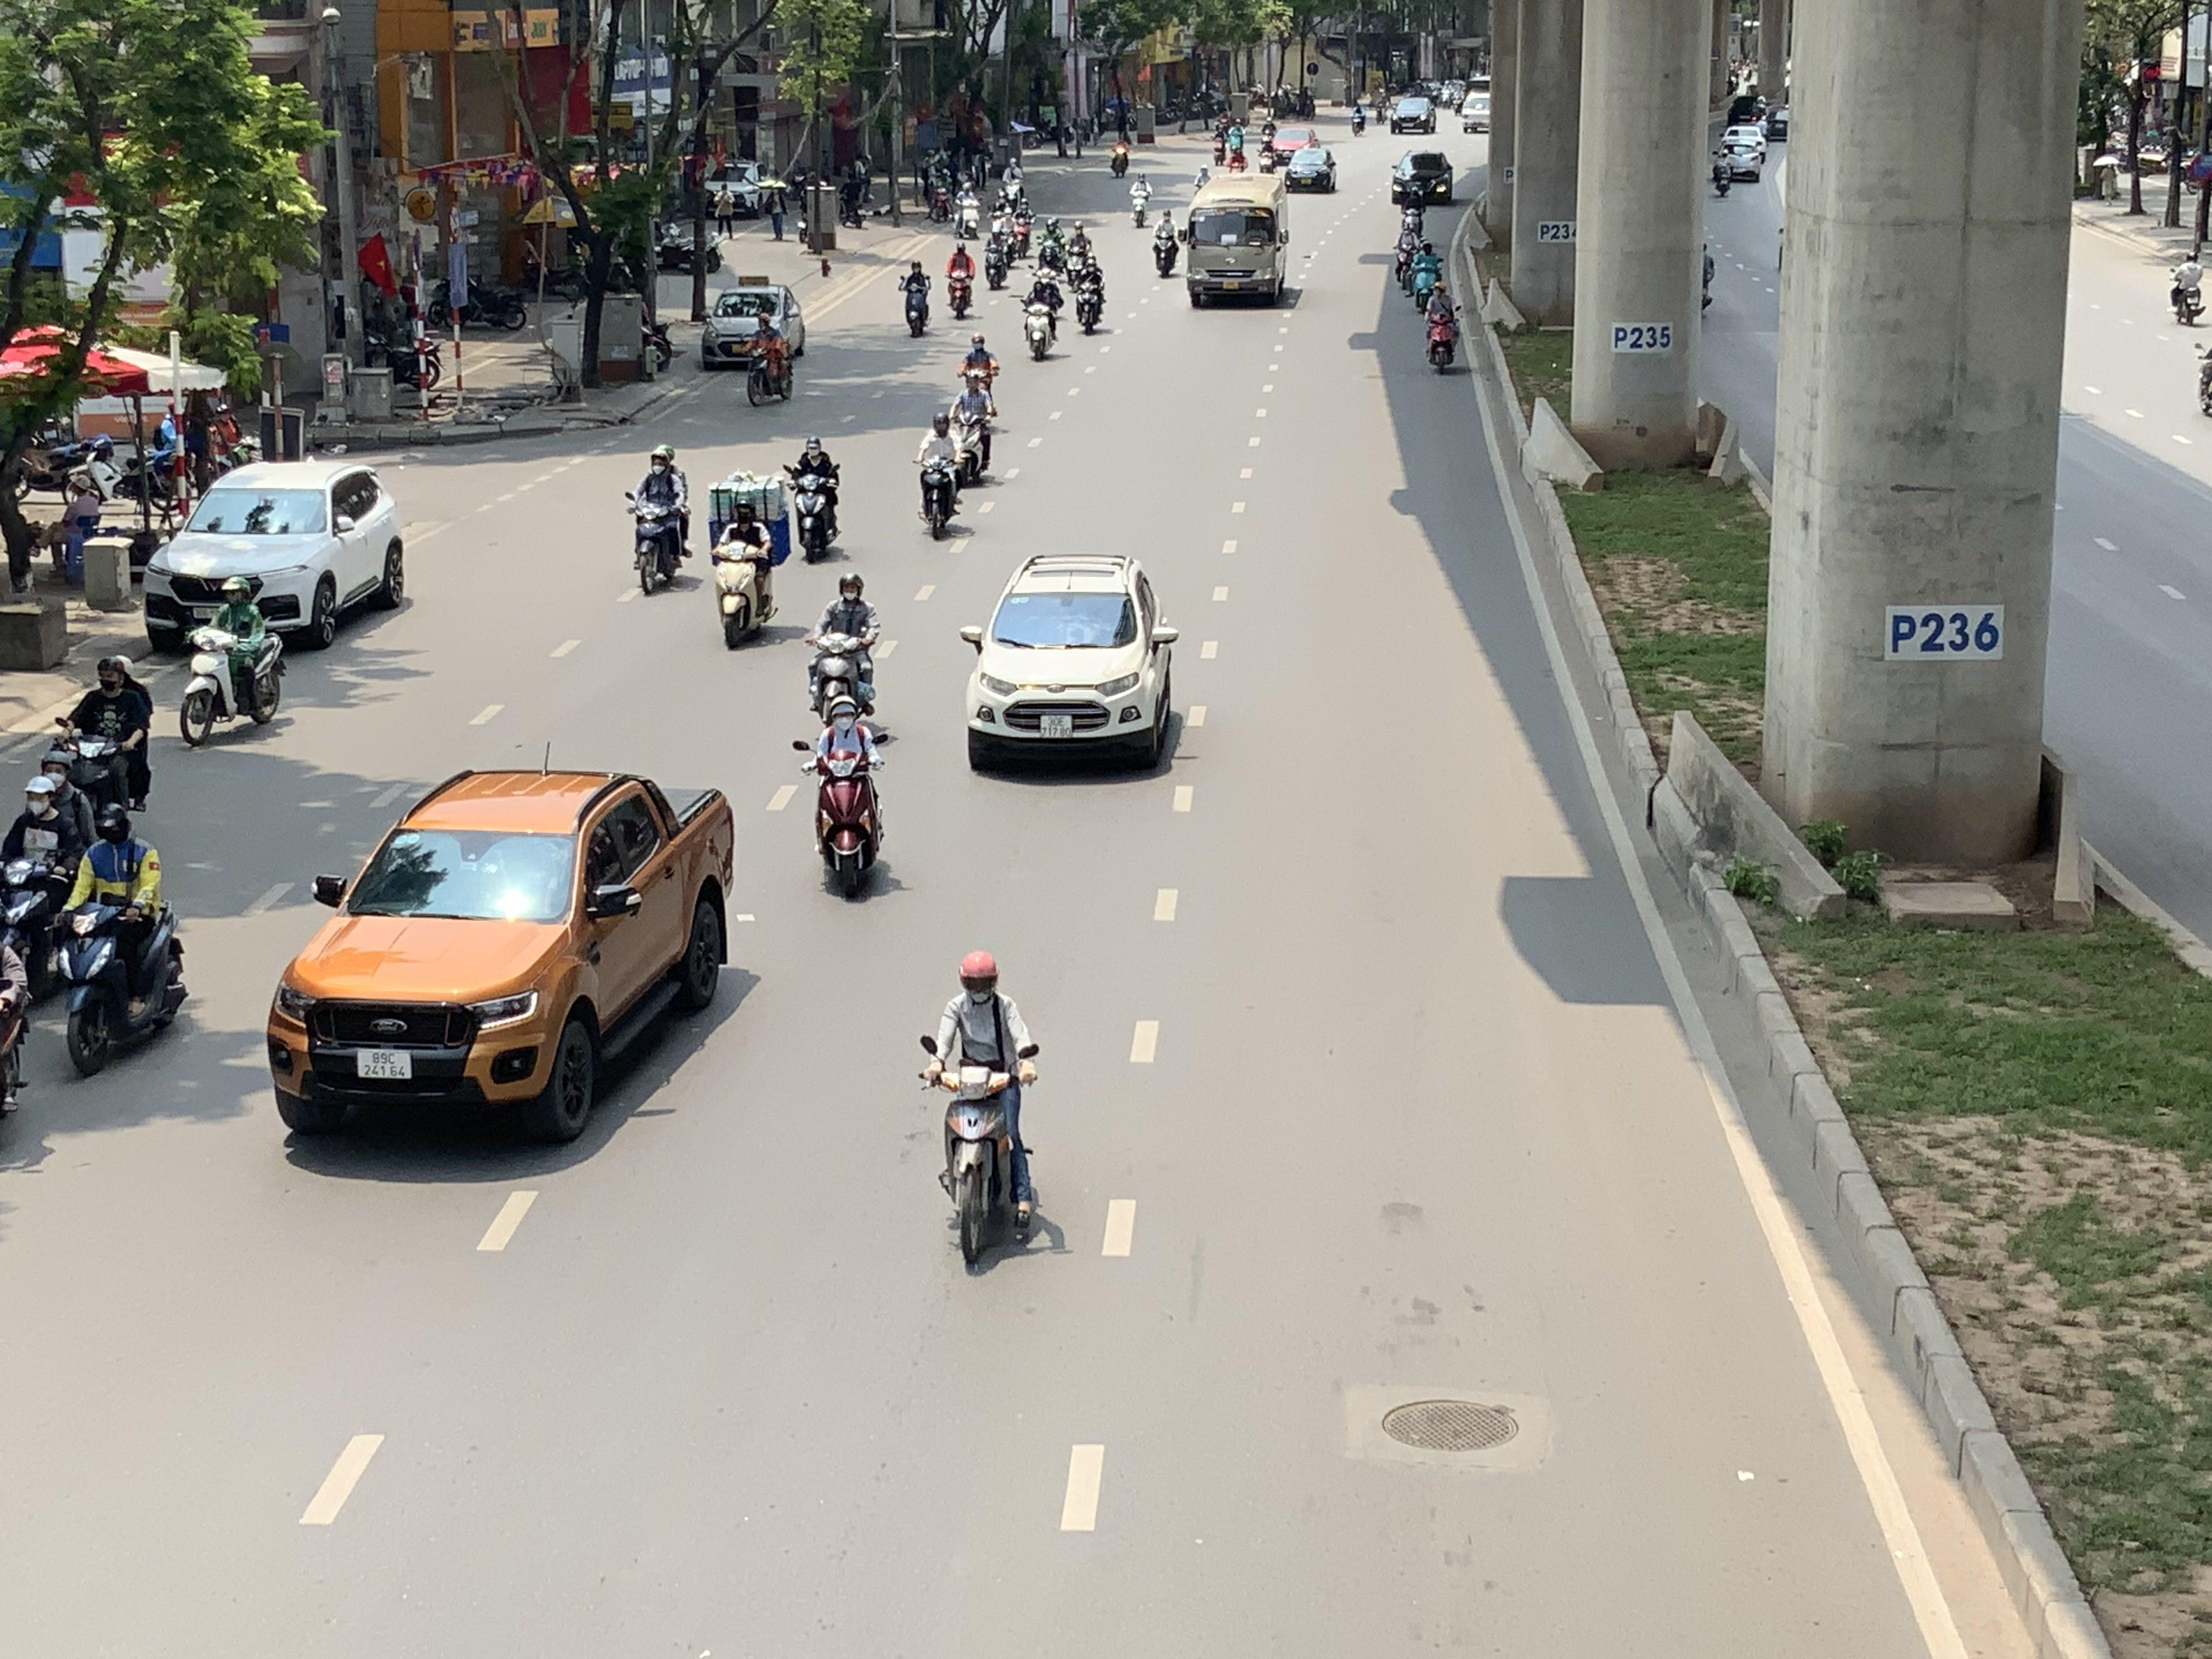BSV: (355, 1049, 413, 1079), (1040, 714, 1073, 739)
bus: (1184, 171, 1292, 308)
car: (265, 767, 737, 1143), (139, 458, 409, 653), (960, 551, 1184, 775), (700, 282, 806, 368), (1390, 148, 1456, 206), (1284, 143, 1339, 192), (1388, 94, 1437, 136), (1458, 89, 1493, 134)
motorbike: (921, 948, 1050, 1274), (52, 802, 192, 1082), (0, 770, 89, 995), (801, 690, 890, 903), (178, 577, 287, 748), (45, 655, 155, 819), (805, 573, 881, 721), (712, 498, 779, 650), (627, 446, 691, 596), (0, 880, 31, 1164), (784, 436, 845, 563), (914, 410, 967, 540), (949, 373, 998, 486), (744, 314, 794, 408), (1021, 265, 1062, 361), (1423, 277, 1463, 375), (2168, 246, 2209, 326), (956, 331, 1001, 399), (1071, 253, 1108, 335), (1409, 234, 1446, 314), (942, 237, 977, 321), (899, 258, 934, 336), (639, 303, 674, 378), (982, 216, 1015, 291), (1151, 207, 1183, 279), (2195, 310, 2212, 418), (1127, 169, 1151, 228)
